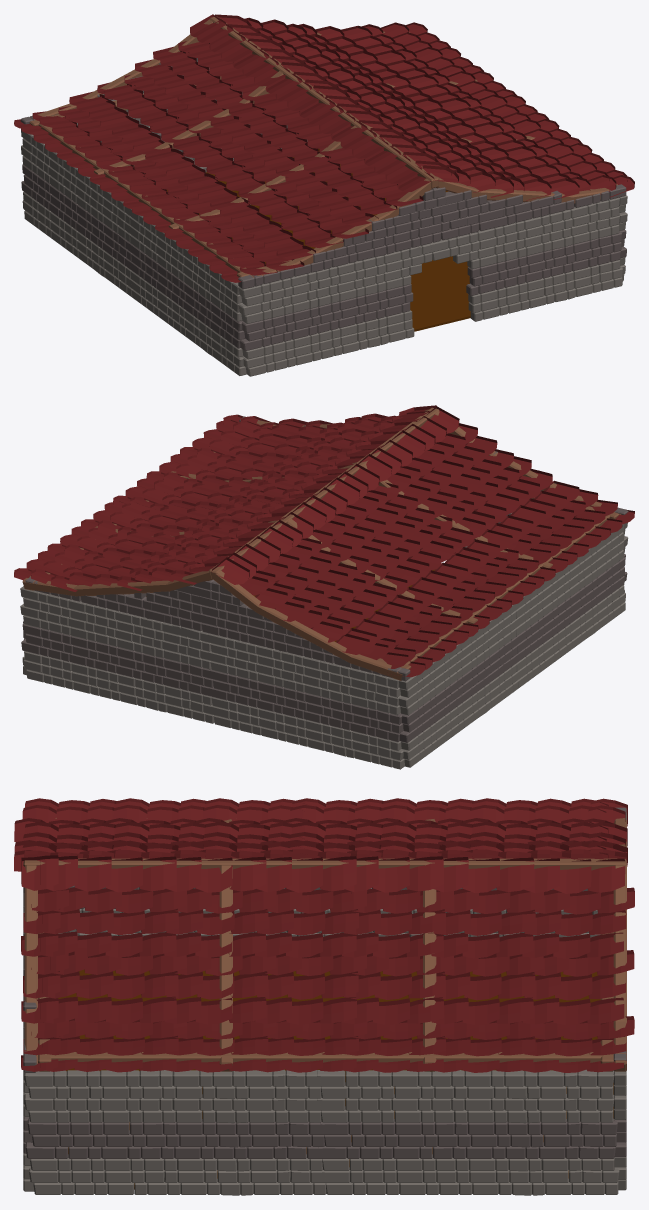
Rendered from farmHouse.fbx.
3 renders of one model, top to bottom at view 1: azimuth 30°, elevation 25°; view 2: azimuth 150°, elevation 25°; view 3: azimuth 270°, elevation 25°, orthographic. The views are drawn at different scales.
Parts seen in each view (by area): view 1: Plane.001, Walls.5052, Cube.001, Plane; view 2: Plane.001, Walls.5052, Cube.001; view 3: Plane.001, Walls.5052, Cube.001, Plane.
Part boxes in pixels (left/top/right/bottom): Plane.001: left=14, top=14, right=634, bottom=282; Walls.5052: left=20, top=41, right=627, bottom=376; Cube.001: left=29, top=16, right=617, bottom=277; Plane: left=167, top=148, right=470, bottom=331; Plane.001: left=14, top=405, right=634, bottom=677; Walls.5052: left=20, top=416, right=628, bottom=769; Cube.001: left=22, top=407, right=620, bottom=680; Plane.001: left=14, top=798, right=634, bottom=1072; Walls.5052: left=23, top=807, right=626, bottom=1195; Cube.001: left=23, top=813, right=626, bottom=1071; Plane: left=58, top=969, right=613, bottom=1189.
Size of the model in its own units: 9645 by 3556 by 9358.
